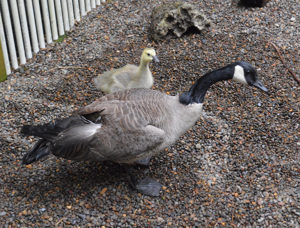goose: (21, 60, 270, 197)
